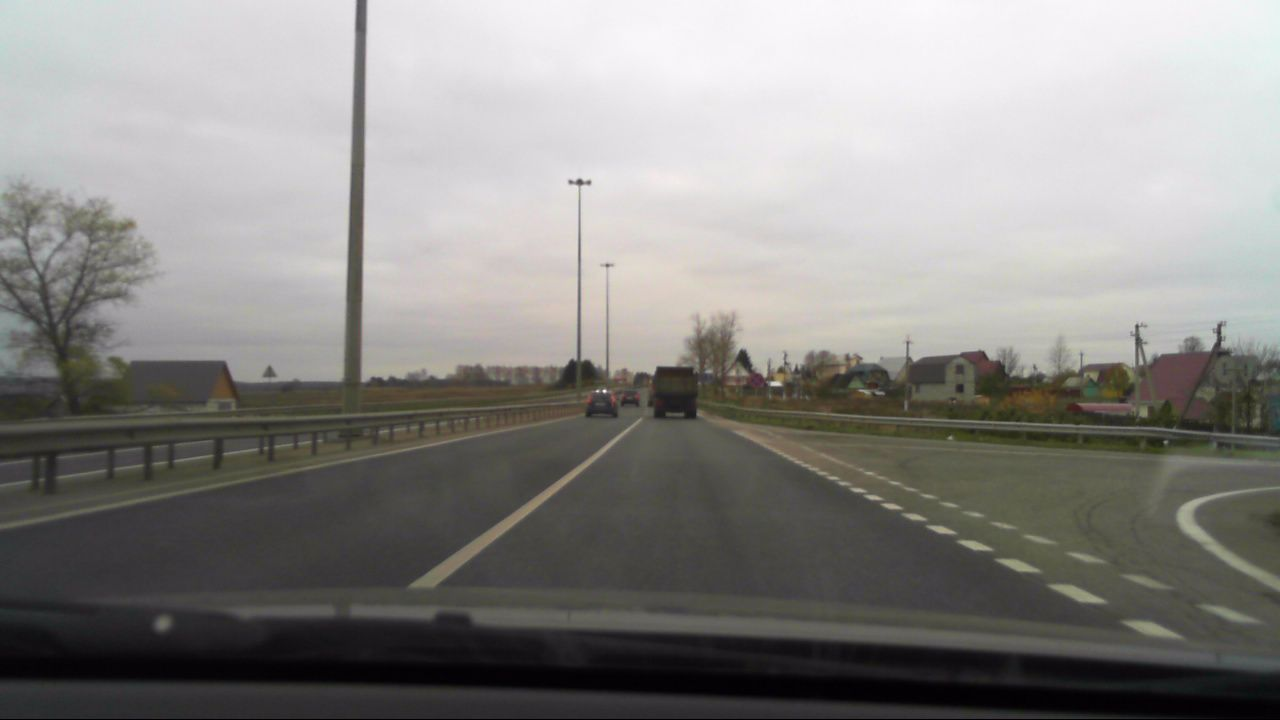No Parking: (747, 370, 770, 392)
